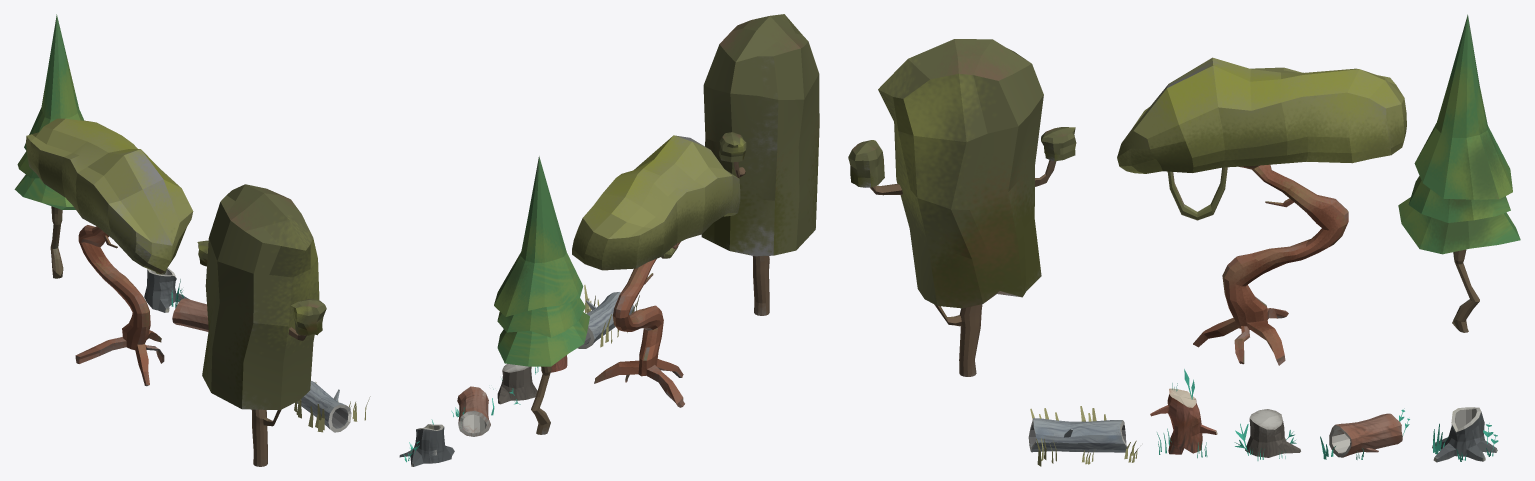
Rendered from скач.fbx.
3 renders of one model, left to right at view 1: azimuth 30°, elevation 25°; view 2: azimuth 150°, elevation 25°; view 3: azimuth 270°, elevation 25°, orthographic. The views are drawn at different scales.
Parts seen in each view (by area): view 1: Объект_Куб_3, jj, Объект_Конус, Объект_Цилиндр, Объект_Цилиндр_4, Объект_Цилиндр_3; view 2: Объект_Куб_3, jj, Объект_Конус, Объект_Цилиндр_3, Объект_Цилиндр_4, Объект_Цилиндр_1, Объект_Цилиндр; view 3: Объект_Куб_3, jj, Объект_Конус, Объект_Цилиндр, Объект_Цилиндр_3, Объект_Цилиндр_2, Объект_Цилиндр_4, Объект_Цилиндр_1.
Part boxes in pixels (box(x1,y1,x2,y2)): Объект_Куб_3: box(197, 184, 326, 466); jj: box(26, 118, 193, 386); Объект_Конус: box(14, 14, 84, 278); Объект_Цилиндр: box(297, 381, 351, 432); Объект_Цилиндр_4: box(144, 268, 189, 312); Объект_Цилиндр_3: box(172, 298, 208, 331); Объект_Куб_3: box(701, 14, 819, 315); jj: box(572, 135, 740, 407); Объект_Конус: box(494, 156, 589, 434); Объект_Цилиндр_3: box(457, 386, 490, 436); Объект_Цилиндр_4: box(399, 424, 454, 466); Объект_Цилиндр_1: box(497, 364, 537, 404); Объект_Цилиндр: box(577, 292, 634, 348); Объект_Куб_3: box(848, 39, 1076, 376); jj: box(1117, 57, 1406, 365); Объект_Конус: box(1398, 14, 1520, 332); Объект_Цилиндр: box(1028, 418, 1127, 452); Объект_Цилиндр_3: box(1329, 413, 1402, 457); Объект_Цилиндр_2: box(1150, 388, 1217, 454); Объект_Цилиндр_4: box(1432, 407, 1497, 462); Объект_Цилиндр_1: box(1245, 409, 1300, 457).
Size of the model in its own units: 2018 by 2967 by 4757.
10 materials, 8 textured.
